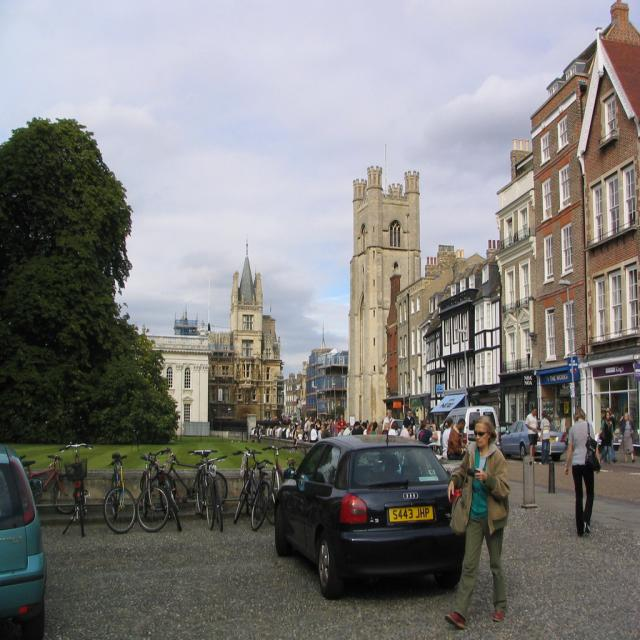car: (271, 423, 471, 599)
